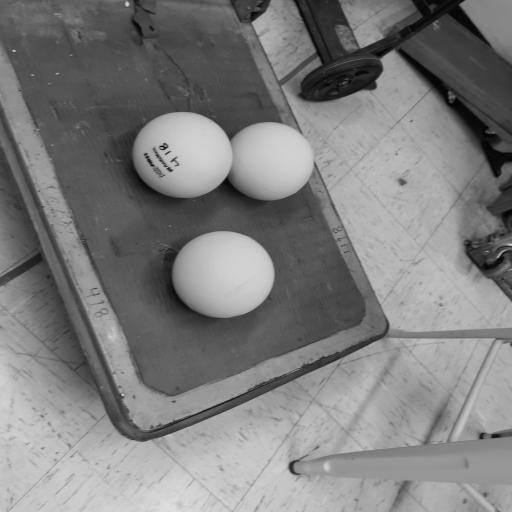fuel: (172, 231, 274, 318), (133, 112, 232, 198), (228, 122, 314, 201)
